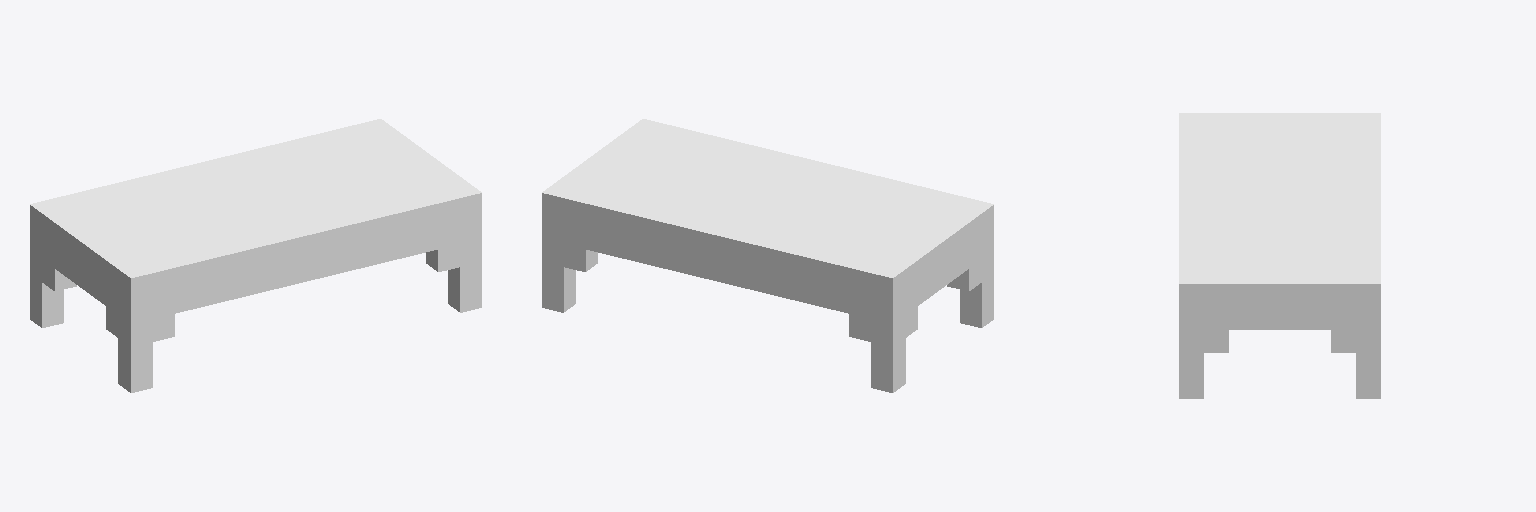
File: coffeetable.obj
3 renders of one model, left to right at view 1: azimuth 30°, elevation 25°; view 2: azimuth 150°, elevation 25°; view 3: azimuth 270°, elevation 25°, orthographic.
Parts seen in each view (by area): view 1: coffeetable; view 2: coffeetable; view 3: coffeetable.
Part boxes in pixels (x1,y1,x2,y2): coffeetable: (30,119,481,392); coffeetable: (542,119,993,392); coffeetable: (1179,113,1380,398).
Size of the model in its own units: 16 by 5 by 8.